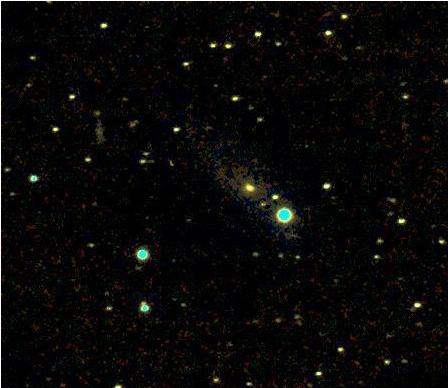star: (231, 173, 261, 203)
